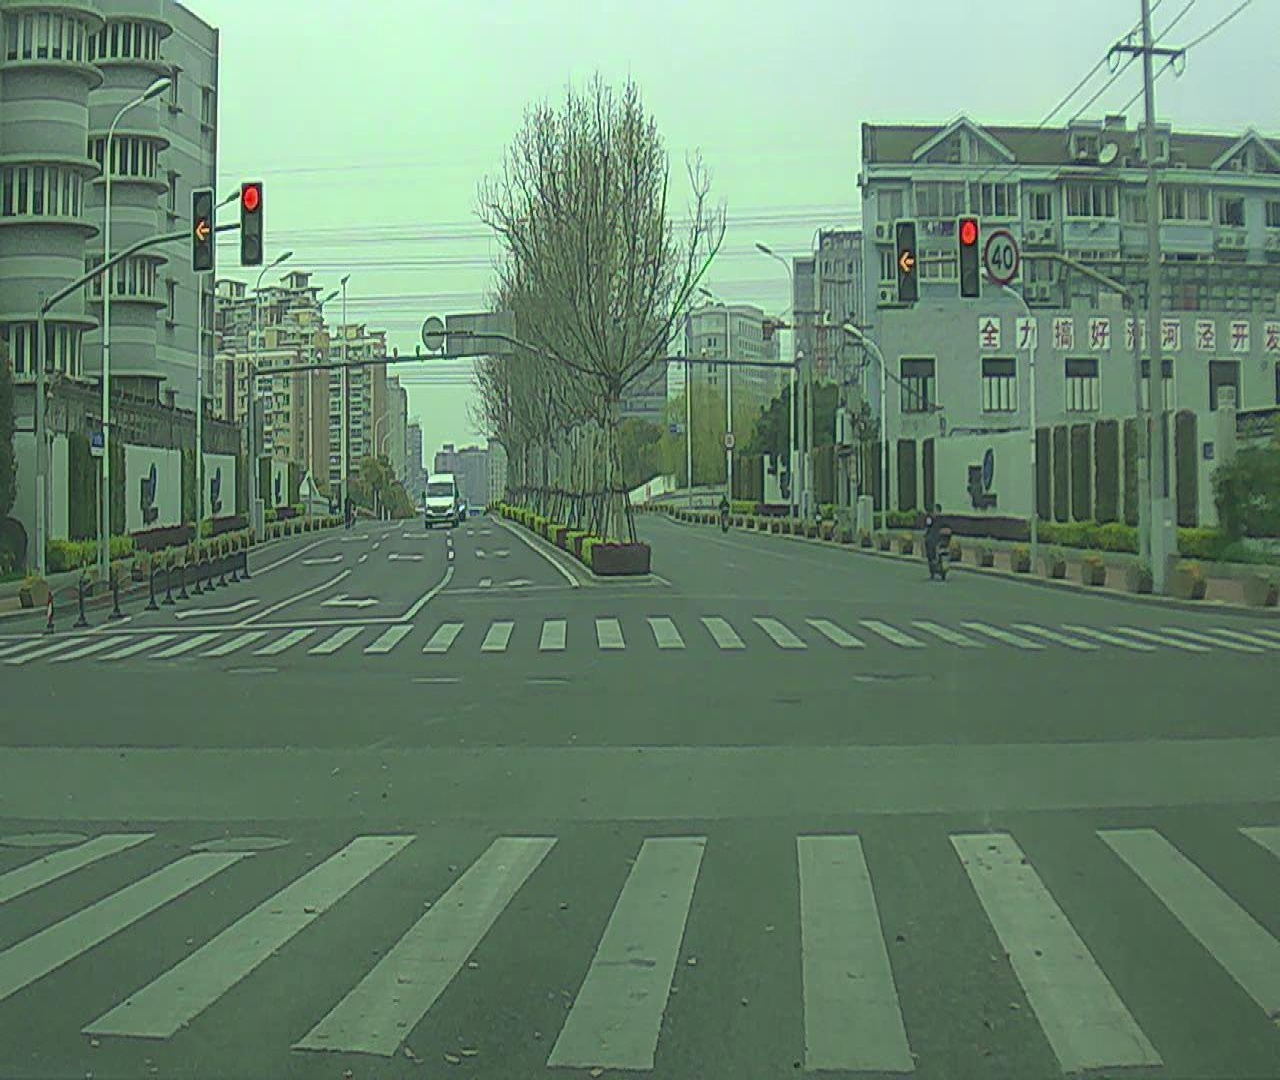red: (240, 178, 267, 270), (954, 219, 982, 301)
yellow: (892, 214, 919, 306), (193, 187, 216, 271)
